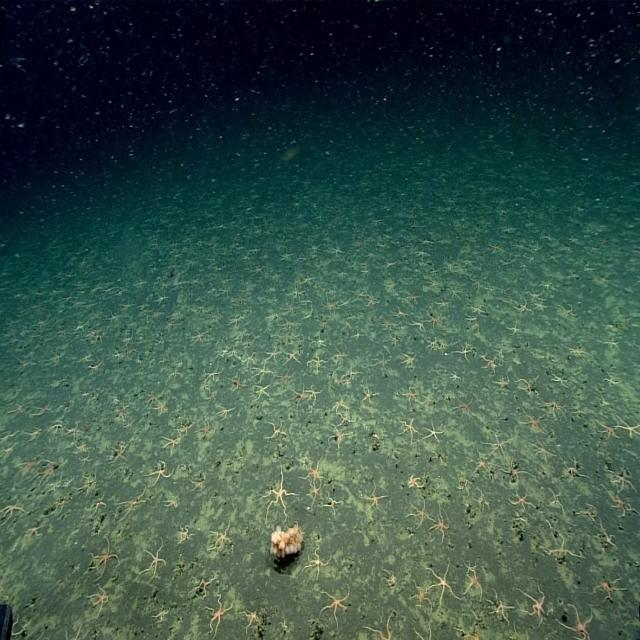brittle-stars: (537, 515, 584, 561), (265, 467, 293, 518), (204, 594, 232, 636), (563, 603, 594, 640), (321, 587, 351, 625), (429, 562, 456, 602), (92, 539, 120, 575), (519, 586, 546, 622), (142, 542, 166, 580), (118, 486, 146, 518), (209, 521, 232, 556), (306, 547, 331, 579), (594, 576, 624, 602), (489, 590, 511, 624), (0, 498, 26, 524), (608, 487, 632, 515), (487, 434, 511, 461), (432, 510, 452, 542), (150, 459, 174, 485), (90, 585, 110, 615), (363, 483, 384, 511), (502, 460, 527, 483), (612, 469, 635, 494), (410, 502, 431, 529), (413, 581, 432, 610), (464, 570, 483, 598), (516, 376, 539, 399), (521, 410, 543, 434), (596, 417, 618, 440), (510, 489, 533, 511), (619, 415, 640, 439), (241, 606, 259, 634), (532, 440, 552, 465), (471, 451, 490, 477), (328, 426, 348, 449), (307, 455, 324, 482), (424, 420, 443, 444), (38, 460, 57, 484), (546, 397, 566, 419), (562, 458, 582, 480), (455, 397, 474, 420), (162, 434, 182, 455), (108, 444, 127, 466), (548, 488, 565, 512), (308, 480, 324, 504), (408, 472, 427, 492), (26, 522, 44, 543), (401, 418, 418, 440), (204, 363, 223, 382), (269, 419, 287, 439), (373, 351, 391, 371), (482, 352, 499, 373), (177, 523, 193, 545), (255, 361, 274, 379), (551, 371, 569, 390), (201, 370, 220, 388), (403, 385, 420, 405), (478, 359, 495, 379), (253, 383, 271, 401), (456, 342, 472, 362), (366, 388, 382, 408), (361, 384, 376, 405), (217, 404, 234, 422), (284, 348, 301, 366), (309, 354, 326, 372), (527, 285, 544, 303), (164, 493, 181, 511), (190, 327, 206, 346), (333, 346, 349, 365), (402, 350, 418, 369), (420, 392, 436, 411), (379, 316, 396, 333), (230, 376, 246, 394), (425, 312, 441, 330), (156, 396, 170, 416), (199, 419, 213, 439), (333, 396, 349, 413), (178, 419, 194, 436), (330, 400, 346, 417), (308, 384, 322, 403), (293, 386, 307, 405), (469, 303, 485, 319), (514, 297, 529, 314), (280, 370, 294, 388), (266, 346, 281, 362), (494, 376, 509, 392), (280, 316, 295, 332), (384, 277, 398, 294), (425, 336, 438, 354), (519, 299, 534, 314), (449, 370, 463, 385), (243, 351, 257, 366), (406, 289, 420, 304), (336, 374, 349, 390), (120, 300, 134, 314), (76, 440, 88, 456), (80, 452, 92, 467)
